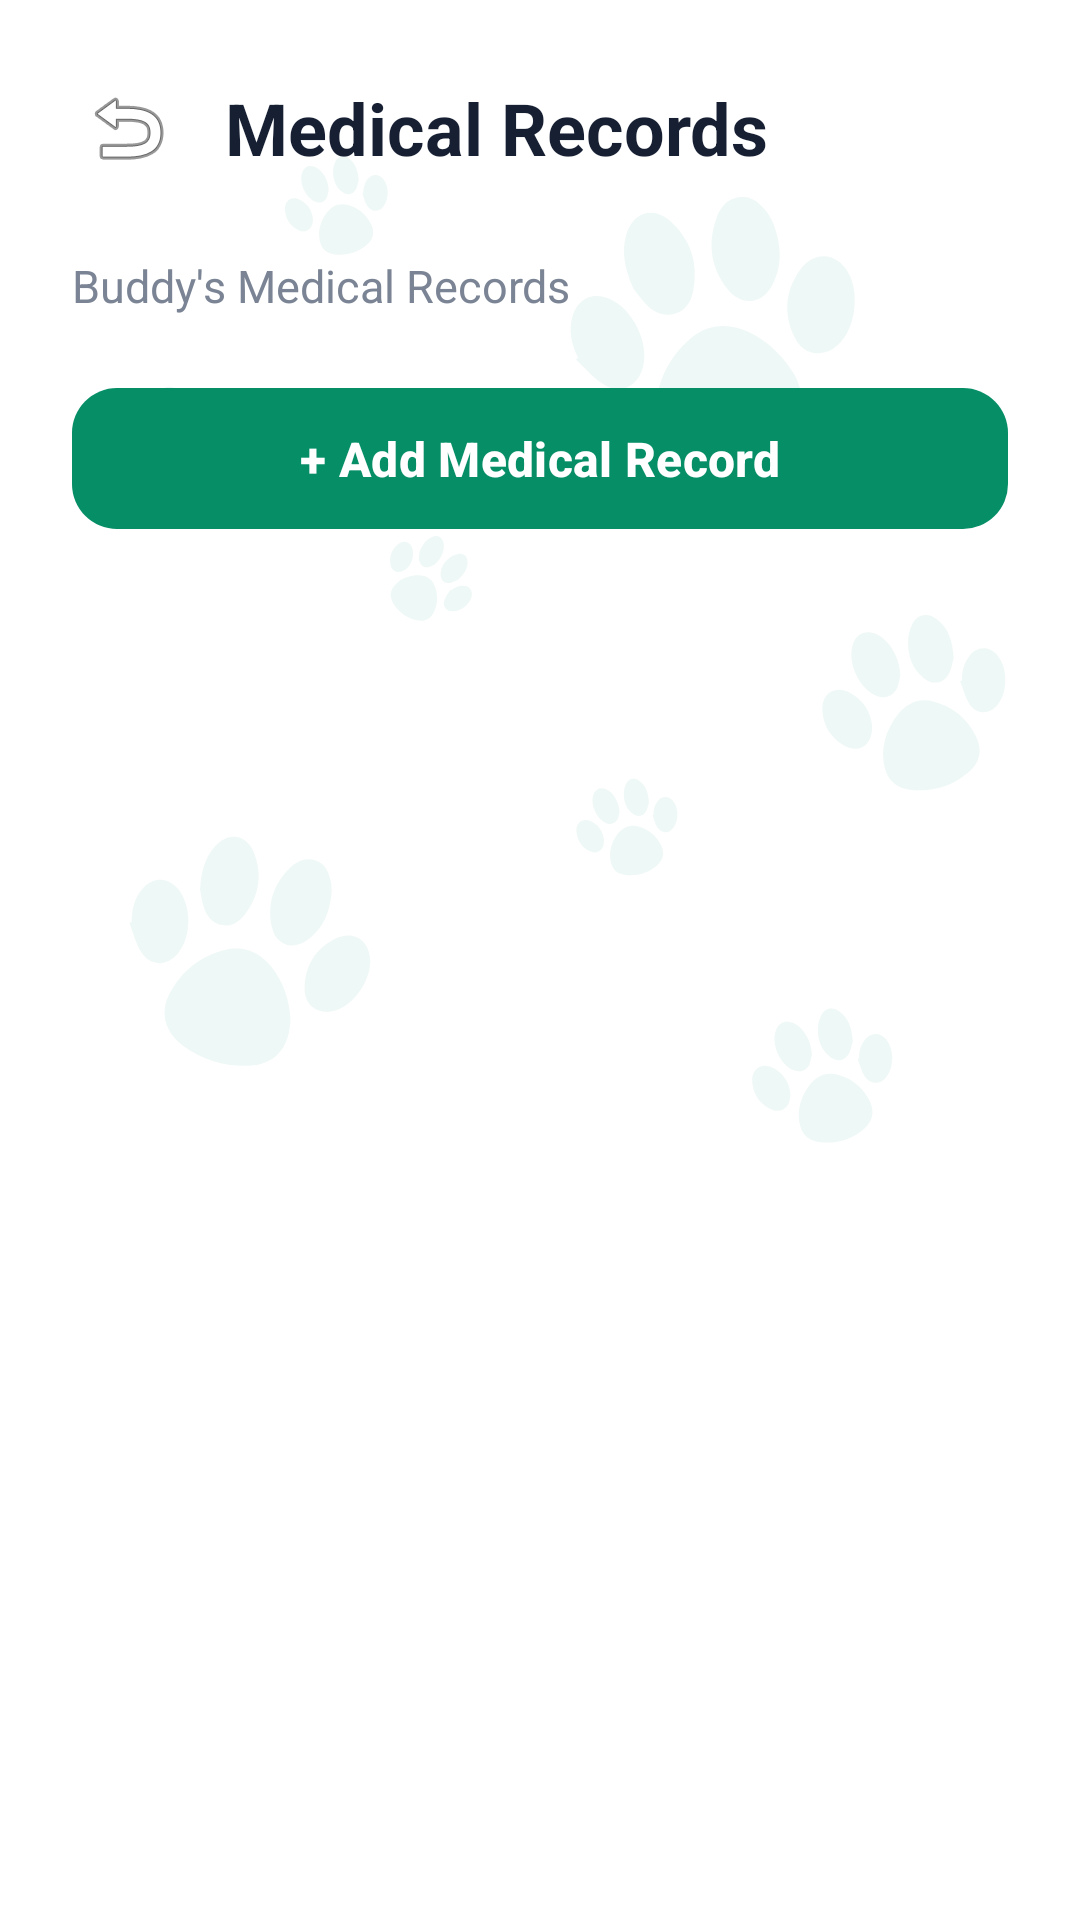

Named icons in this screenshot (1080px×1920px) and their centers, (x=x, y=y):
Back: (x=129, y=128)
